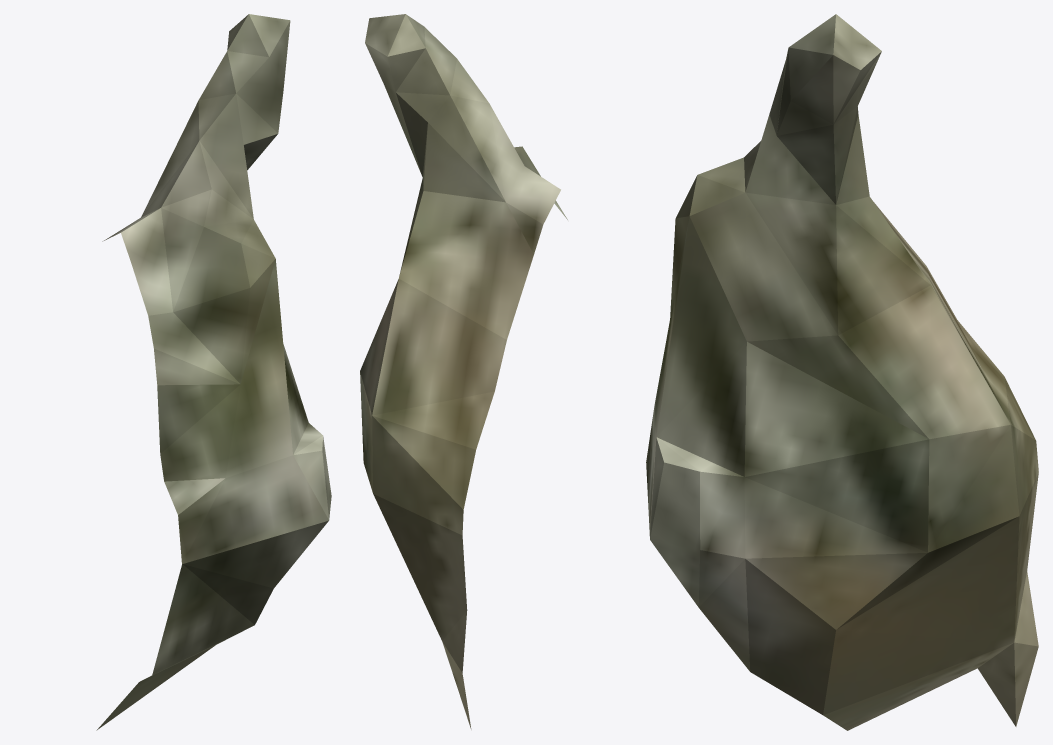
The picture shows the model from 3 angles, left to right: view 1: azimuth 30°, elevation 25°; view 2: azimuth 150°, elevation 25°; view 3: azimuth 270°, elevation 25°; orthographic projection. The views are drawn at different scales.
Bounding box in the file's own units: 0.4344 × 1.51 × 0.6696.
1 material, 1 textured.
